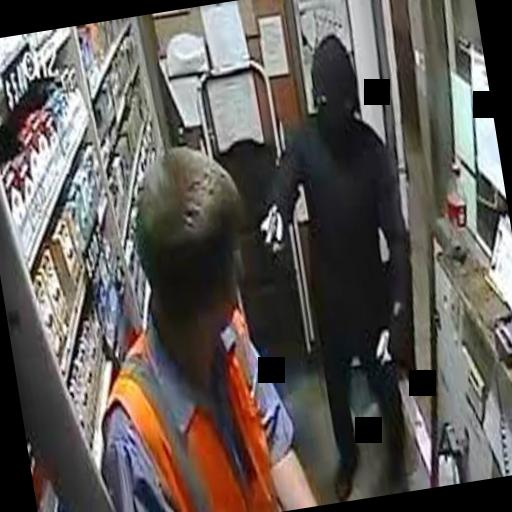Handgun: (256, 203, 290, 263)
